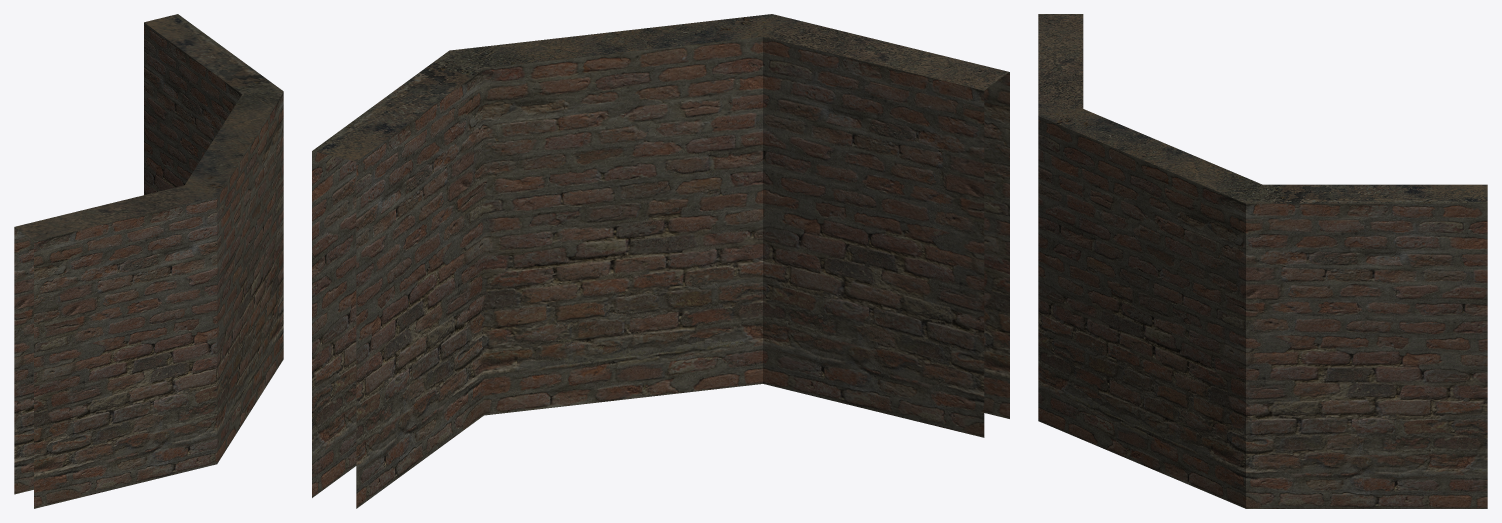
The model's file is wall_hr_1_m2a_2.obj.
3 renders of one model, left to right at view 1: azimuth 30°, elevation 25°; view 2: azimuth 150°, elevation 25°; view 3: azimuth 270°, elevation 25°, orthographic. The views are drawn at different scales.
Visible parts, largest first — view 1: wall_hr_1_m2a_2; view 2: wall_hr_1_m2a_2; view 3: wall_hr_1_m2a_2.
Boxes of the visible parts, x1=… form: wall_hr_1_m2a_2: x1=14, y1=14, x2=283, y2=508; wall_hr_1_m2a_2: x1=312, y1=14, x2=1009, y2=508; wall_hr_1_m2a_2: x1=1038, y1=14, x2=1487, y2=508.
Bounding box in the file's own units: 4 × 3 × 4.
